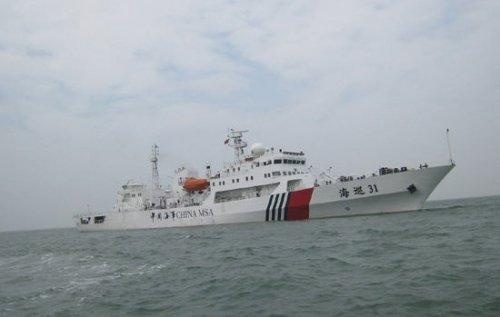warship: (70, 124, 461, 235)
